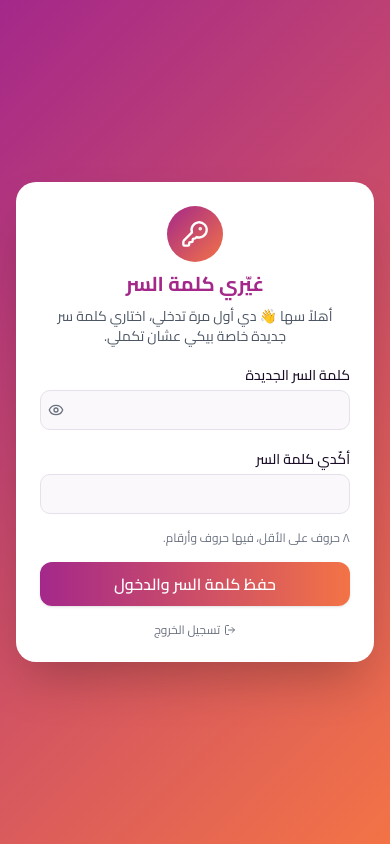
it: force password change gate › shows the server error when the update fails
In the password field labelled "كلمة السر الجديدة": point(195, 410) [40,390,350,430], type "NewPass2026"
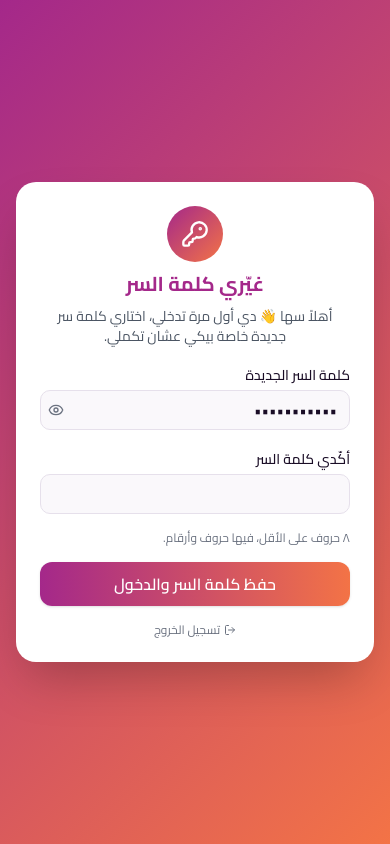
In the password field labelled "أكّدي كلمة السر": point(195, 494) [40,474,350,514], type "NewPass2026"
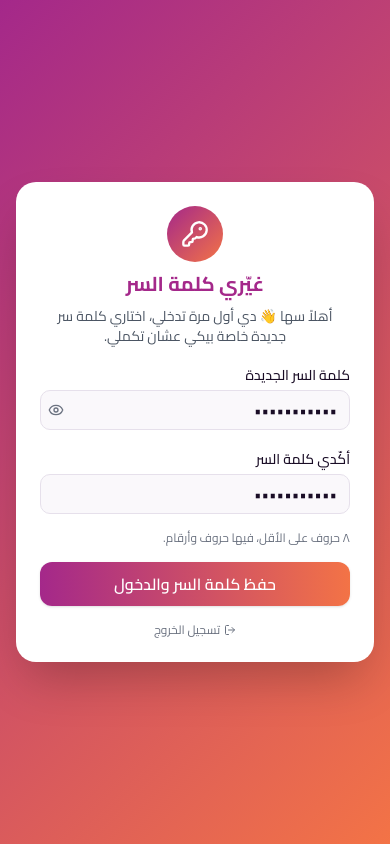
Click the button "حفظ كلمة السر والدخول": point(195, 584) [40,562,350,606]
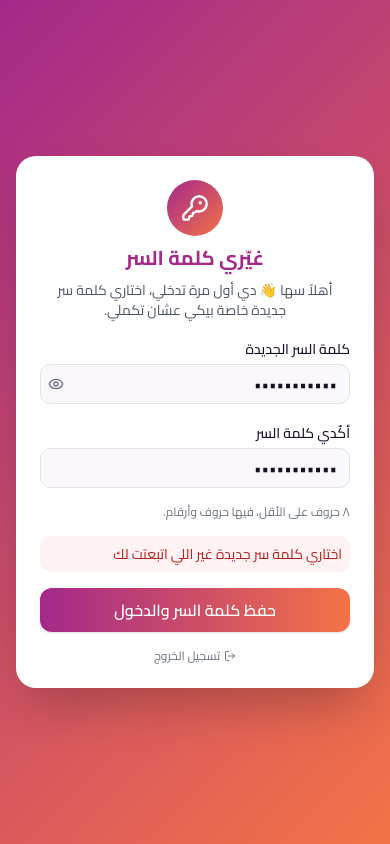
Check: the text "اختاري كلمة سر جديدة غير اللي اتبعتت لك" is shown, box [40,536,350,572]
